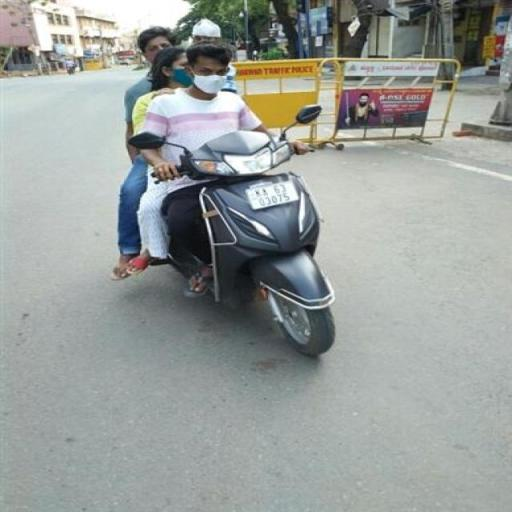tripple riding: (118, 28, 282, 149)
